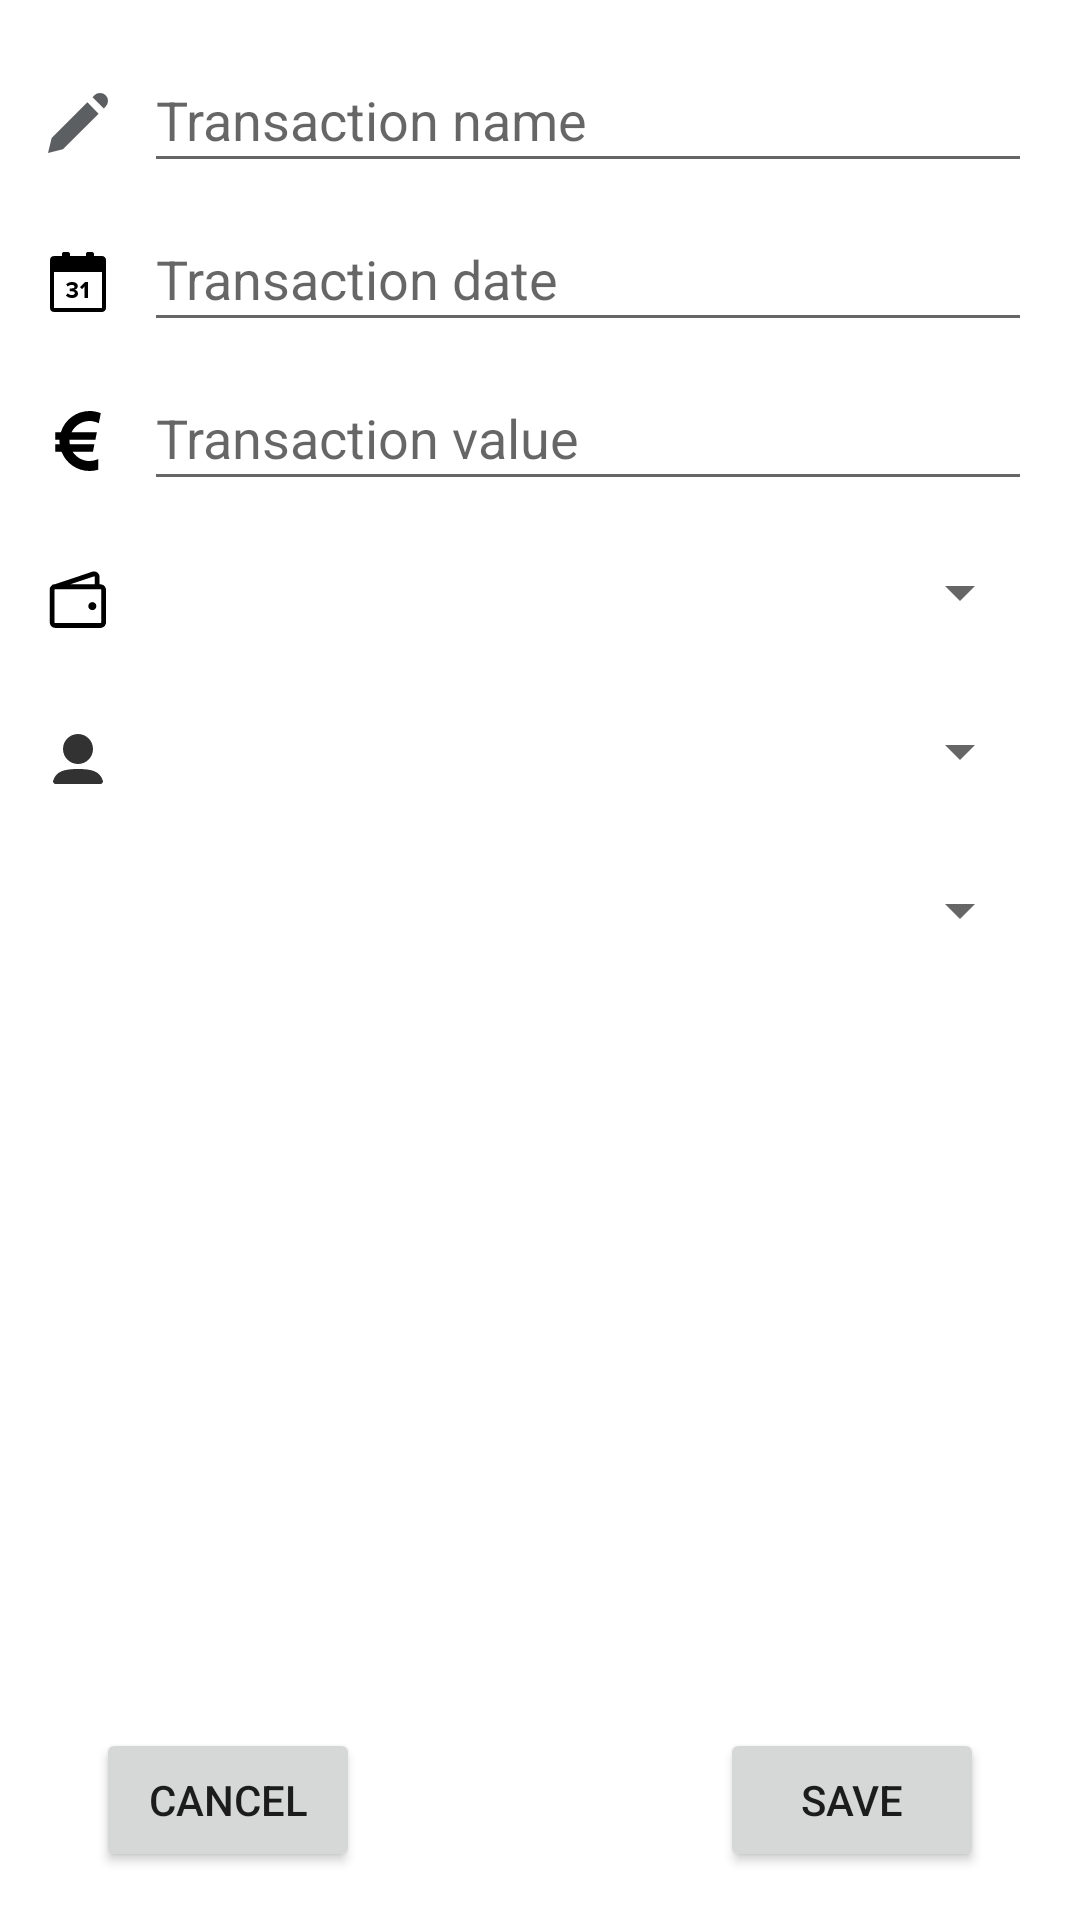

Screen size 1080w x 1920h. Icon name, then its center in pixels as (x,y):
calendar: (78,282)
edit: (78,123)
euro: (78,441)
user: (78,759)
wallet: (77,599)
